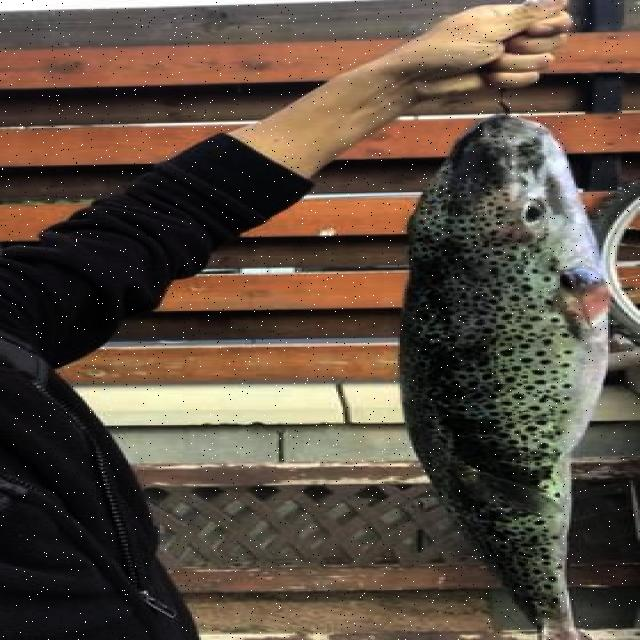Balik: (400, 116, 607, 639)
